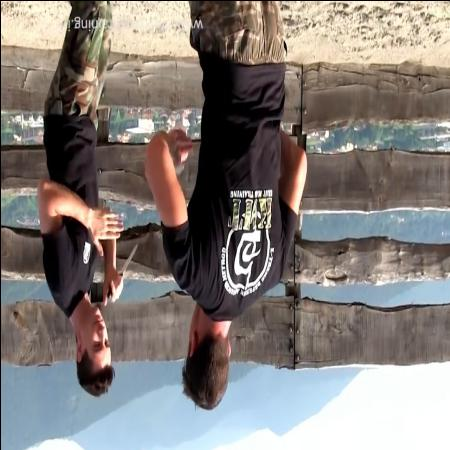long weapon: (100, 239, 141, 311)
